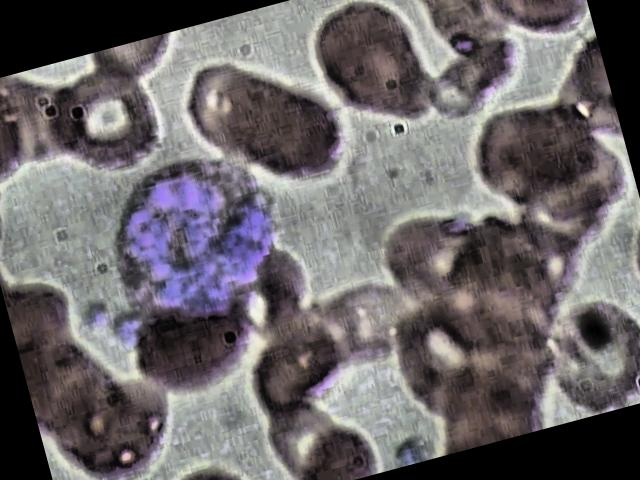Platelets: (102, 307, 152, 354), (74, 295, 124, 342), (387, 430, 432, 467)
RBC: (294, 0, 448, 147), (454, 80, 611, 214), (31, 59, 176, 189), (213, 70, 354, 202), (122, 285, 268, 410), (521, 284, 640, 426), (48, 368, 195, 480), (372, 201, 508, 321), (304, 263, 435, 379), (234, 310, 365, 426), (496, 157, 630, 270), (160, 47, 290, 163), (405, 28, 536, 130), (476, 0, 595, 57)
WBC: (93, 132, 304, 341)
